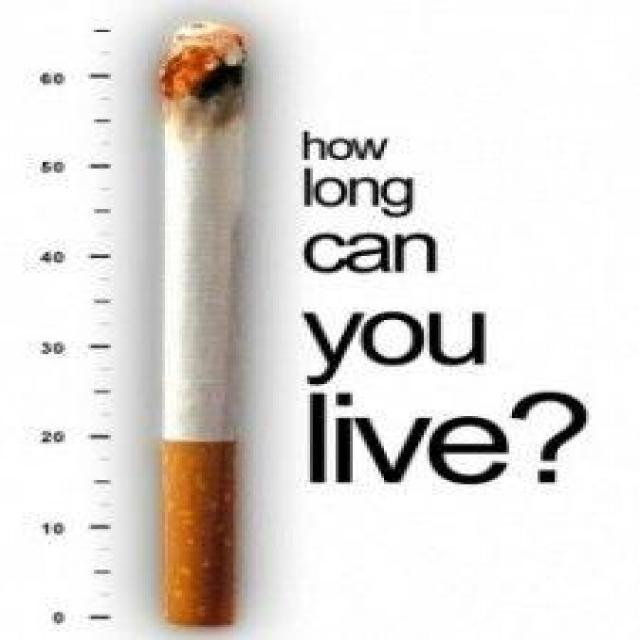cigarette: (157, 13, 249, 627)
